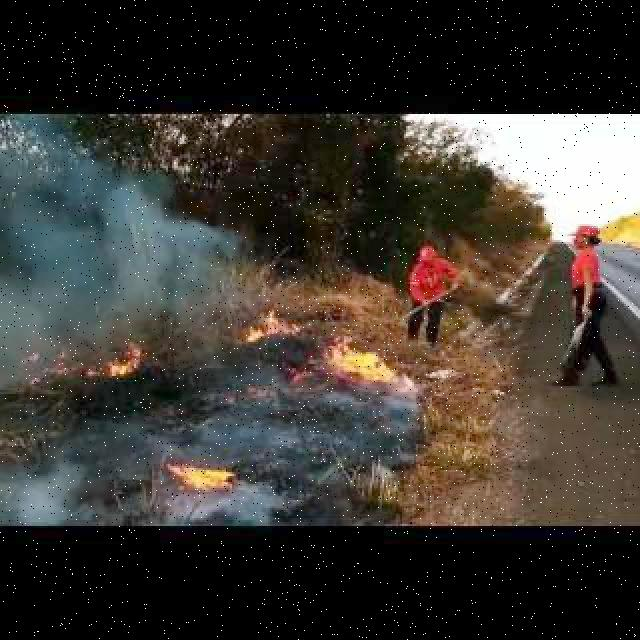fire: (327, 333, 408, 388), (165, 460, 252, 495), (242, 312, 300, 340), (102, 350, 142, 379)
smoke: (8, 132, 236, 353), (18, 412, 404, 520)
